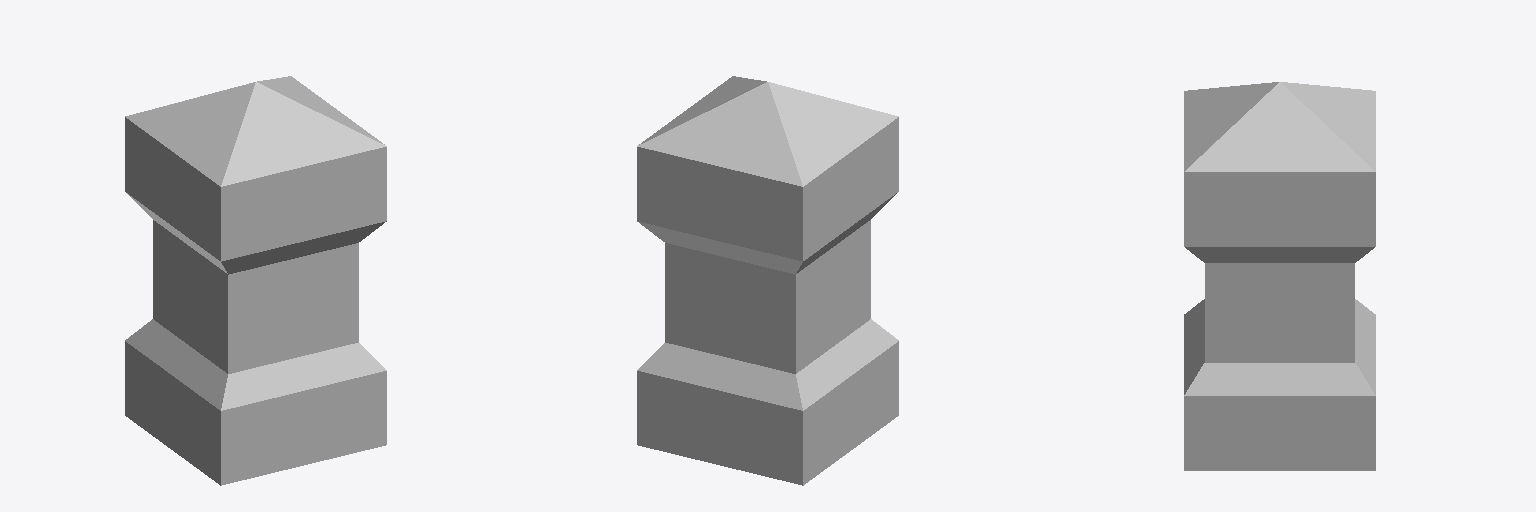
The model's file is column.obj.
The picture shows the model from 3 angles: view 1: azimuth 30°, elevation 25°; view 2: azimuth 150°, elevation 25°; view 3: azimuth 270°, elevation 25°; orthographic projection.
Parts seen in each view (by area): view 1: column_Cube.13695; view 2: column_Cube.13695; view 3: column_Cube.13695.
Boxes of the visible parts, x1=… form: column_Cube.13695: x1=125, y1=76, x2=386, y2=485; column_Cube.13695: x1=637, y1=76, x2=898, y2=485; column_Cube.13695: x1=1184, y1=82, x2=1375, y2=470.
Size of the model in its own units: 0.7 by 1.4 by 0.7.